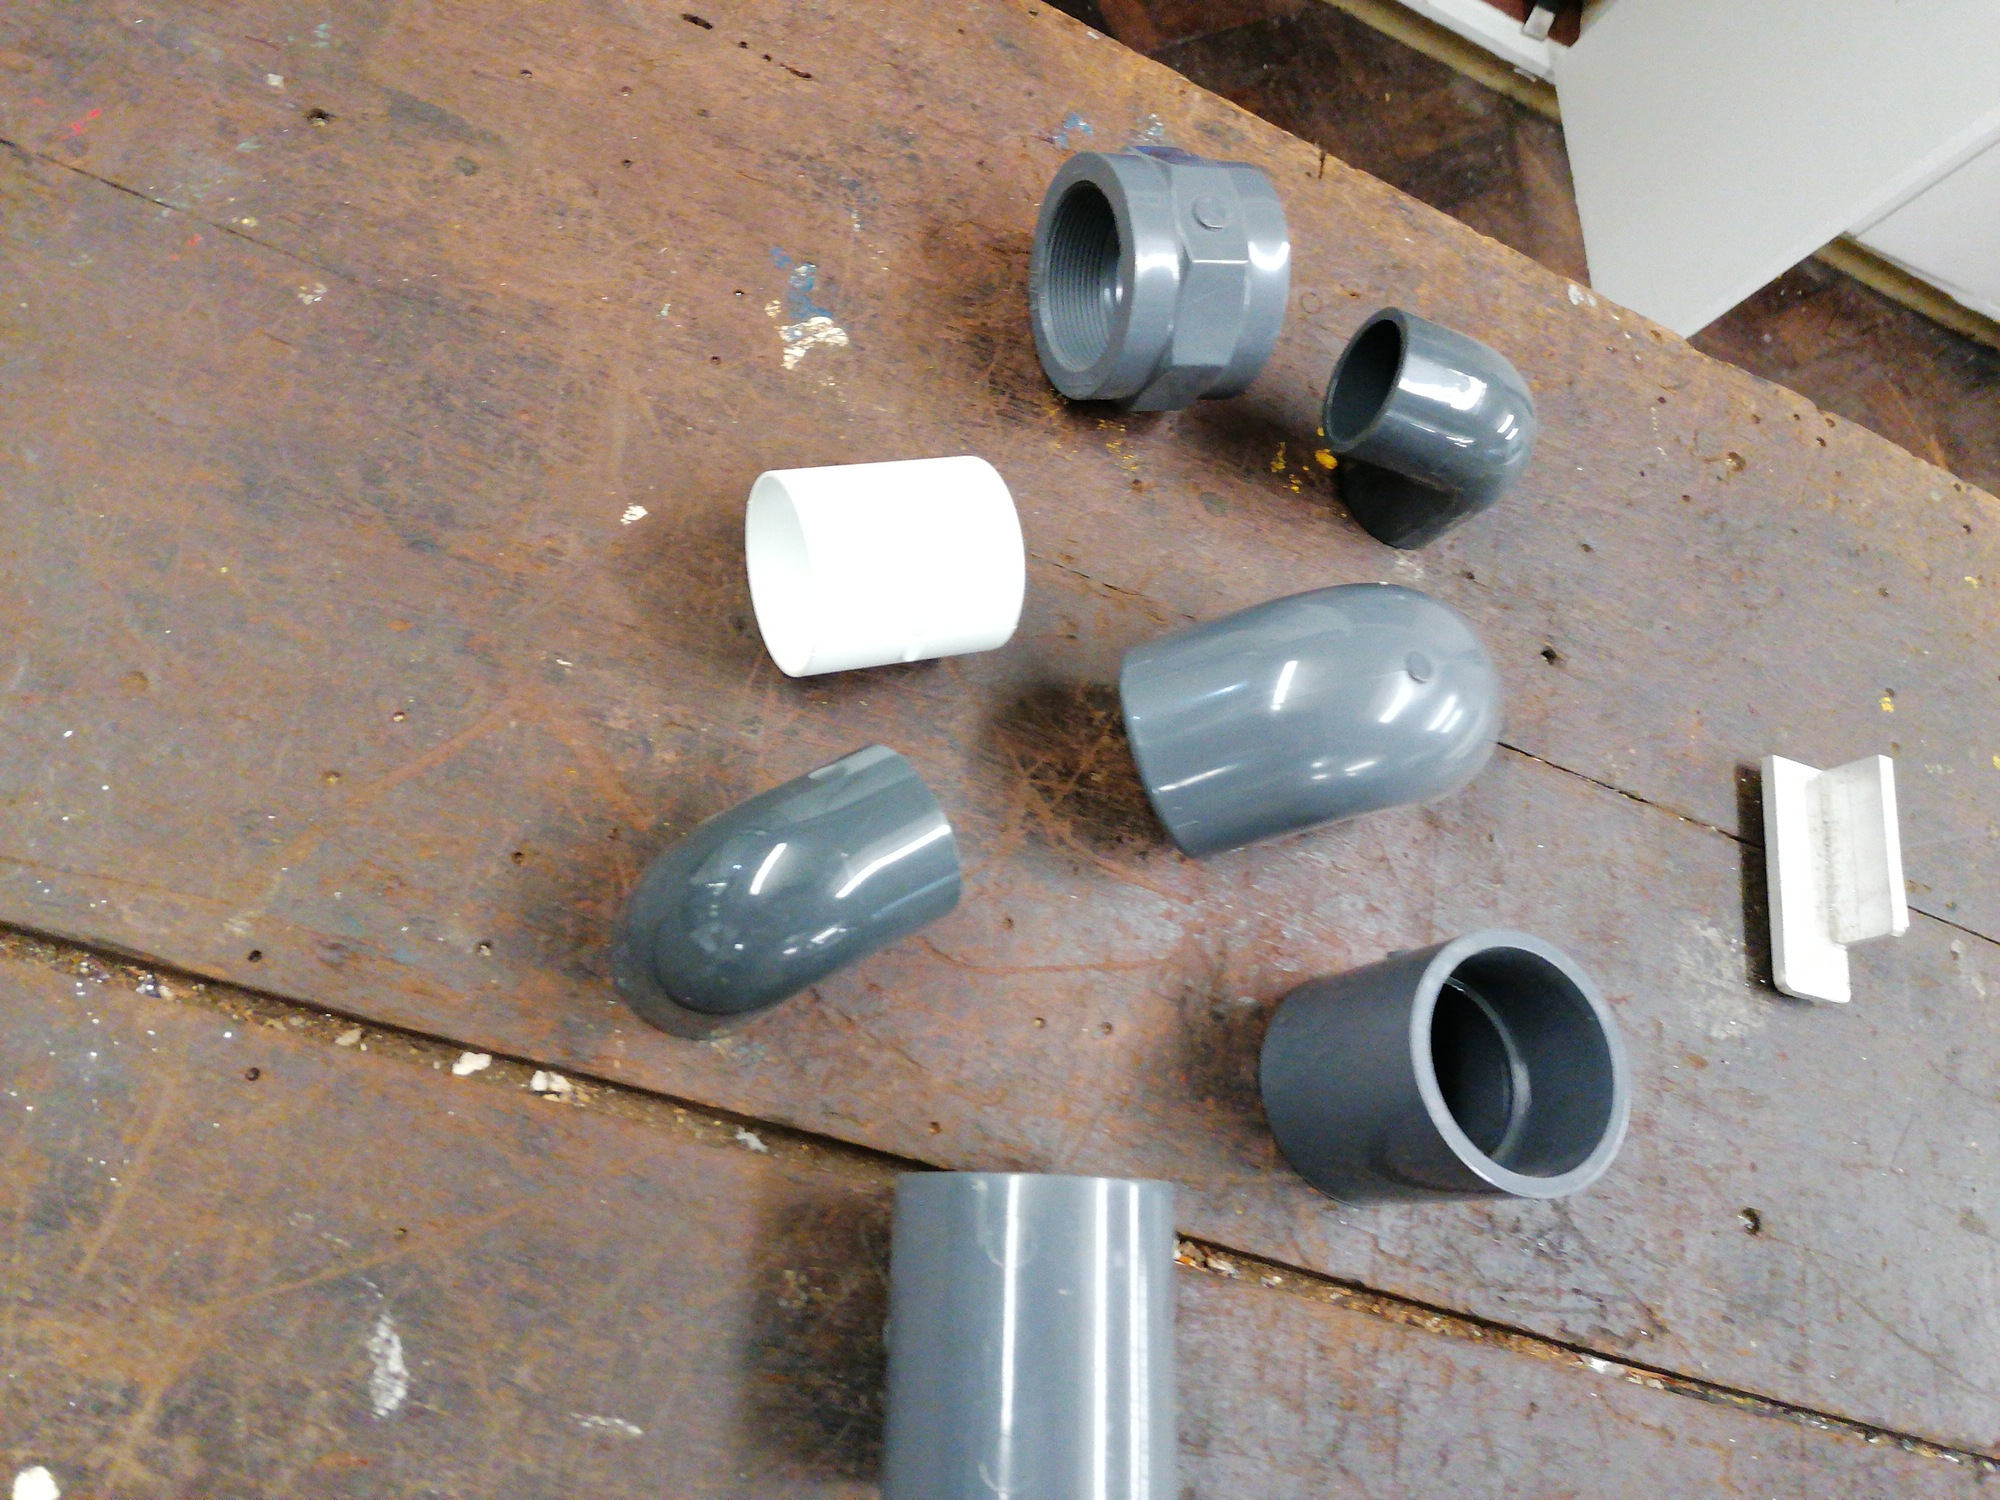nut: (1024, 140, 1291, 418)
pipe: (609, 741, 972, 1041), (1112, 578, 1502, 857), (1258, 923, 1633, 1213), (880, 1168, 1183, 1500), (743, 446, 1024, 682), (1317, 303, 1535, 550)
